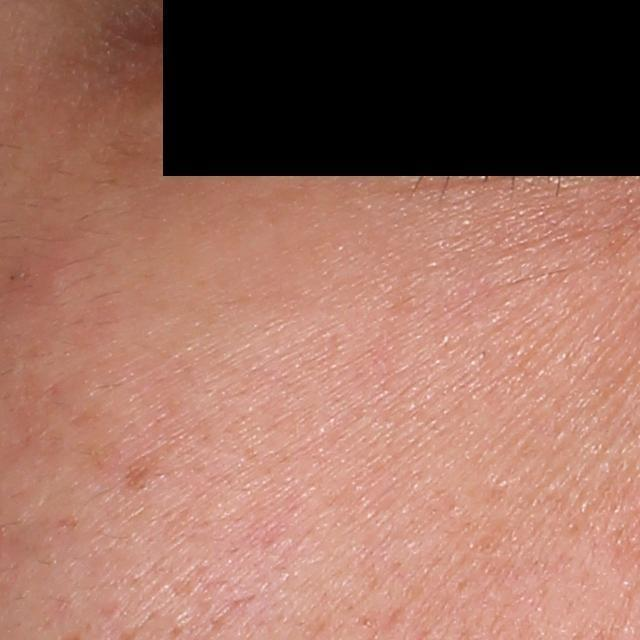melasma: (126, 456, 167, 496)
